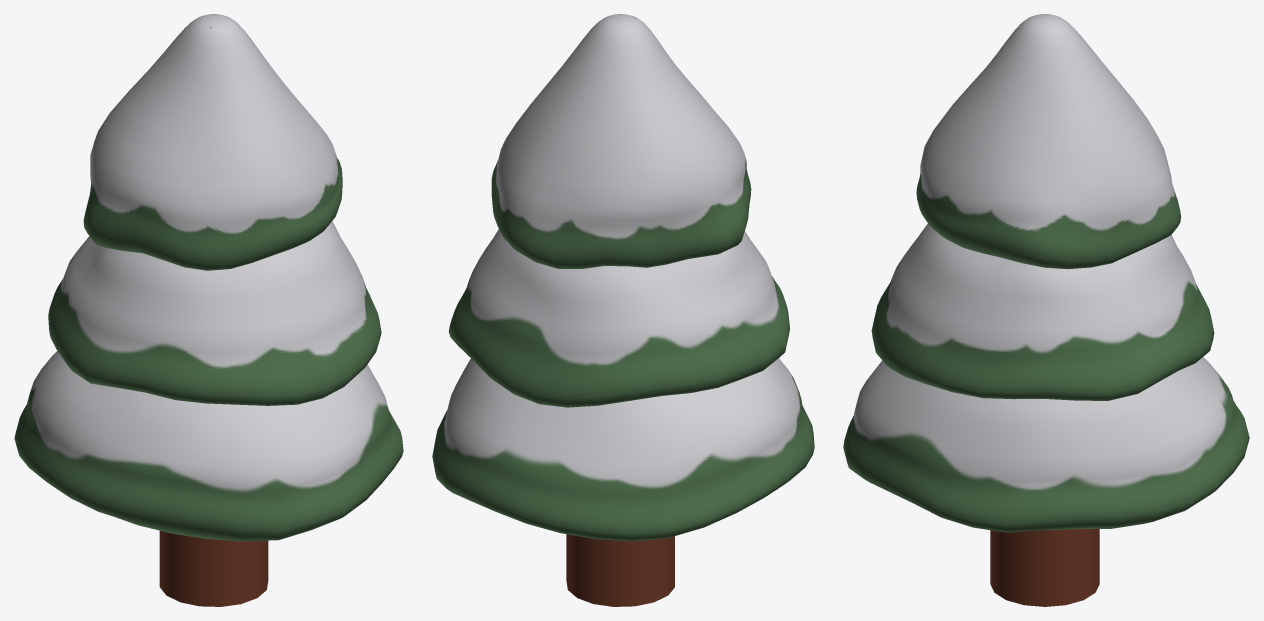
The model's file is WinterTree.fbx.
3 views of the same model, side by side, from view 1: azimuth 30°, elevation 25°; view 2: azimuth 150°, elevation 25°; view 3: azimuth 270°, elevation 25° (orthographic).
Visible parts, largest first — view 1: WinterTree; view 2: WinterTree; view 3: WinterTree.
Boxes of the visible parts, x1,y1,x2,y2 form: WinterTree: [14, 14, 403, 606]; WinterTree: [432, 14, 814, 606]; WinterTree: [843, 14, 1249, 606].
Bounding box in the file's own units: 57.62 × 93.9 × 61.1.
